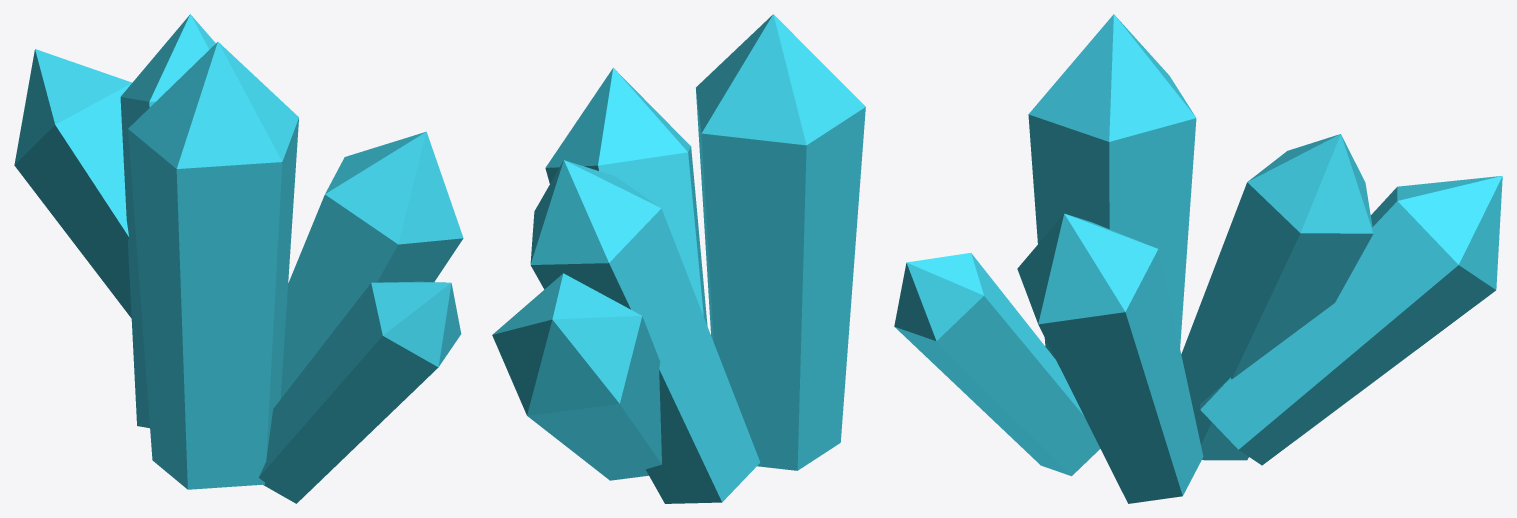
Rendered from crystals.glb.
3 renders of one model, left to right at view 1: azimuth 30°, elevation 25°; view 2: azimuth 150°, elevation 25°; view 3: azimuth 270°, elevation 25°, orthographic. The views are drawn at different scales.
Visible parts, largest first — view 1: Cylinder1683; view 2: Cylinder1683; view 3: Cylinder1683.
Boxes of the visible parts, x1,y1,x2,y2 form: Cylinder1683: [14, 14, 463, 503]; Cylinder1683: [492, 14, 865, 503]; Cylinder1683: [894, 14, 1502, 503].
Size of the model in its own units: 0.5853 by 0.8952 by 1.12.
